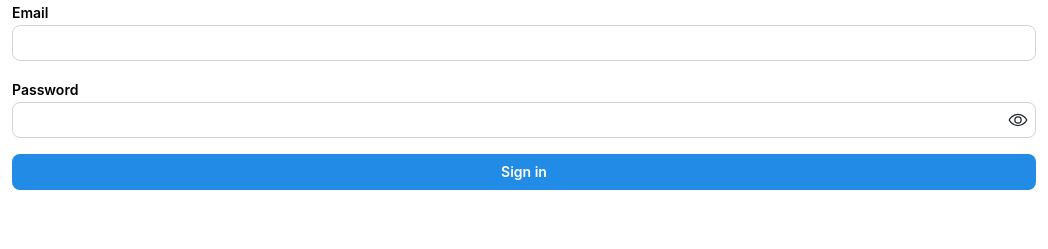
Test: SignInForm › checks the fields before asking the server
Click the button "Sign in" at coordinates (524, 172), box [12,154,1036,190]
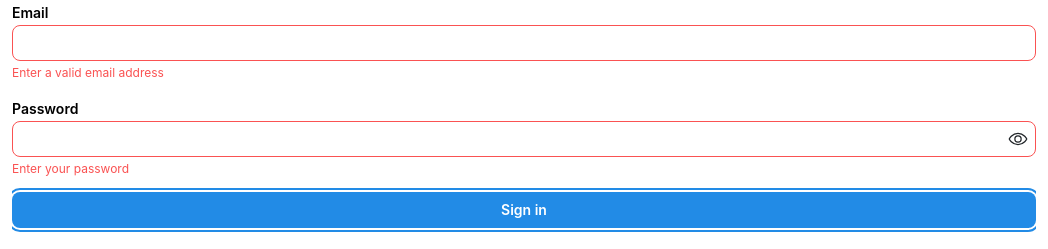
Result: the text "Enter a valid email address" is shown at [12,65,164,80]
Result: the text "Enter your password" is shown at [12,161,129,176]
